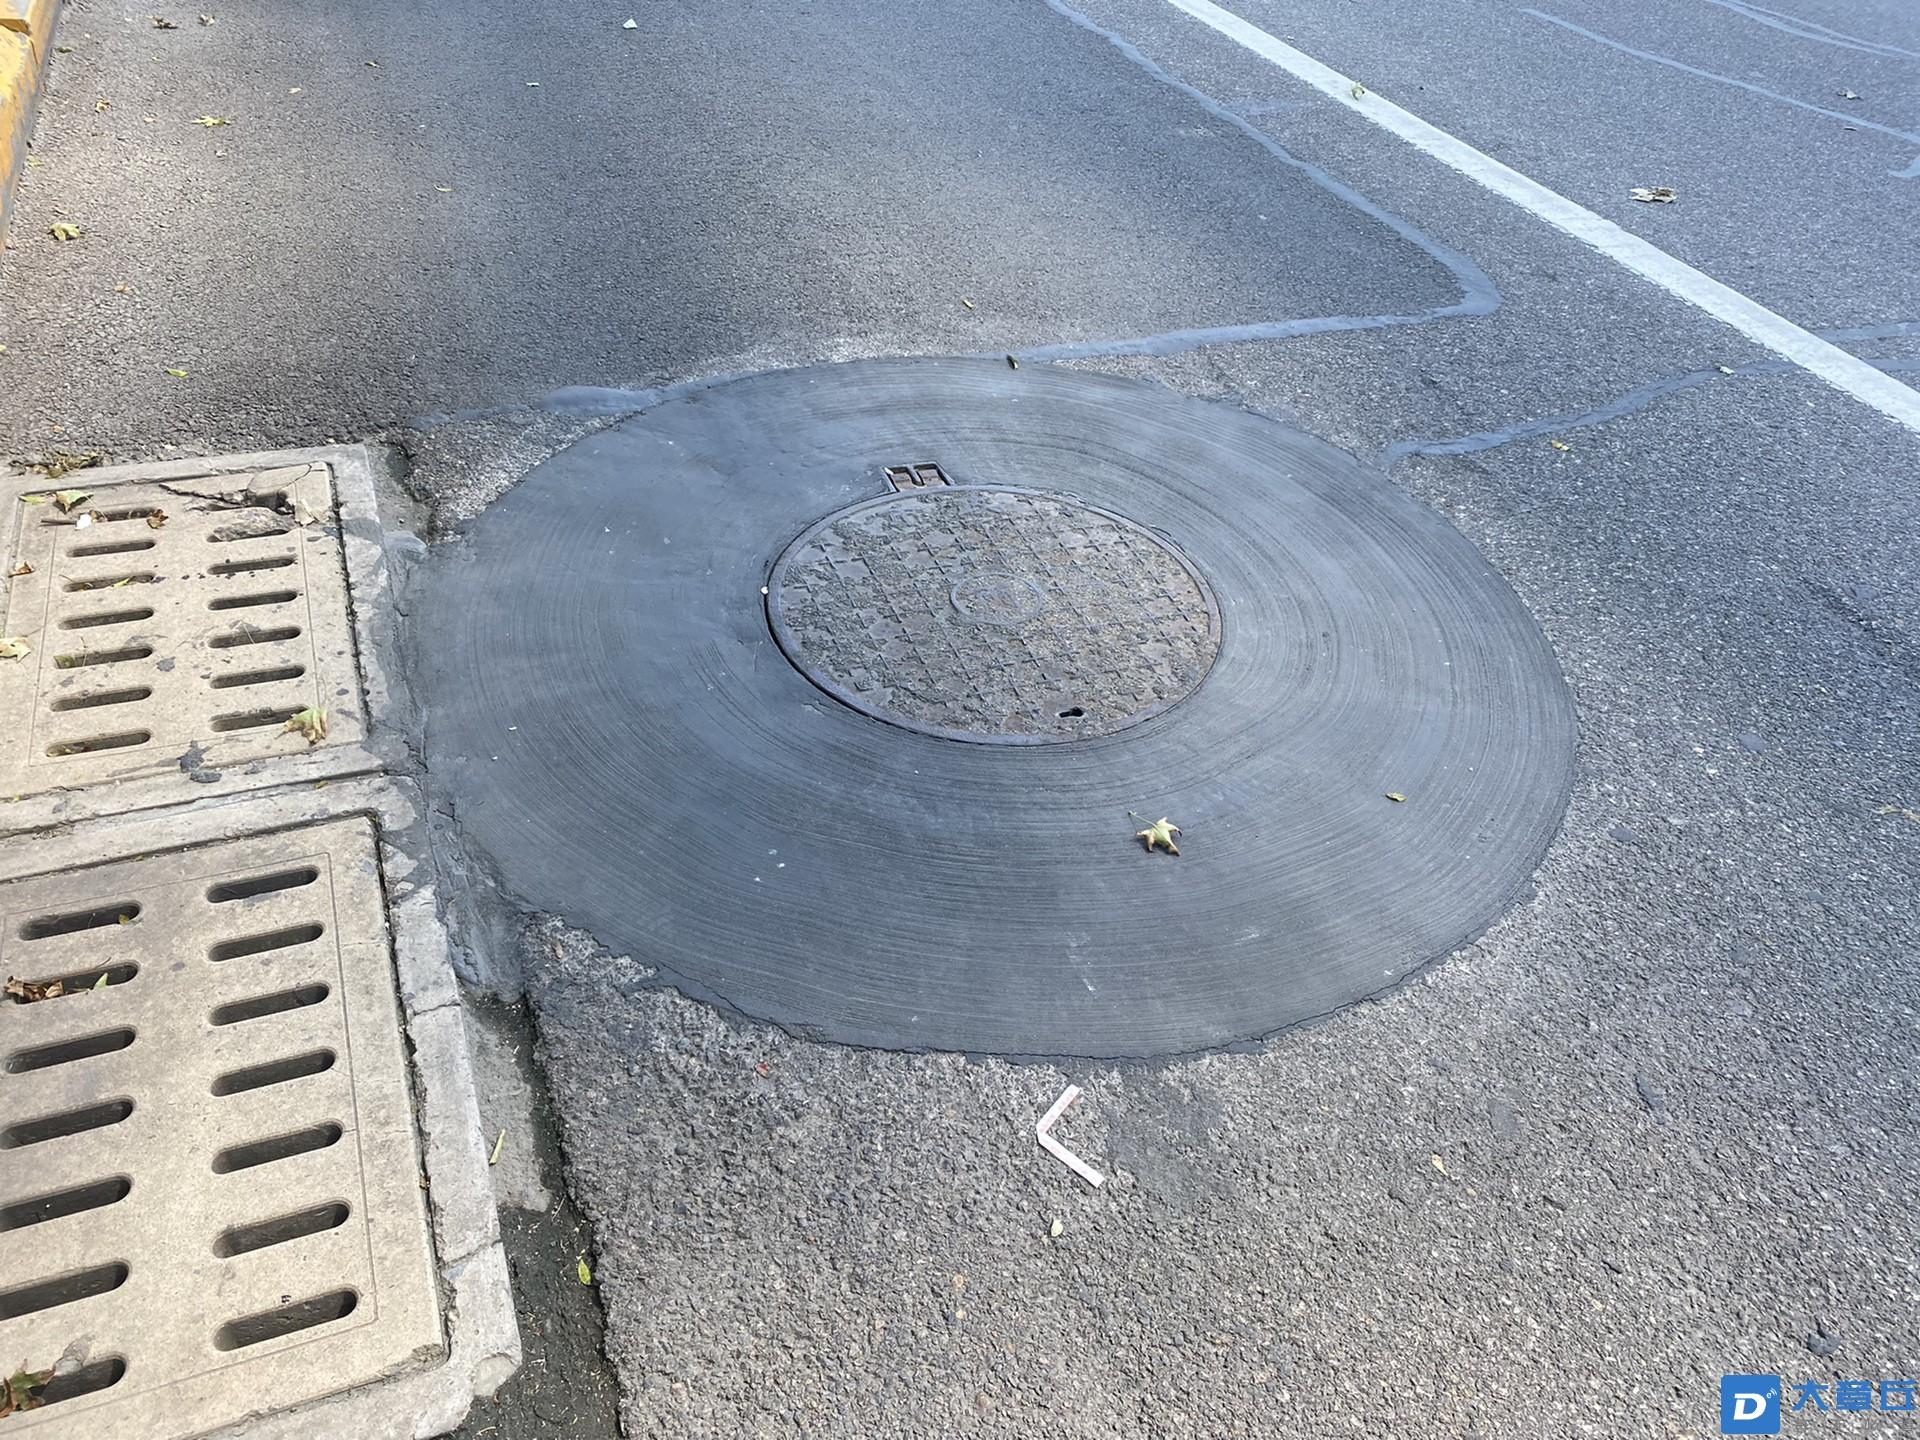wellcover: (5, 428, 519, 1440), (736, 431, 1255, 798)
